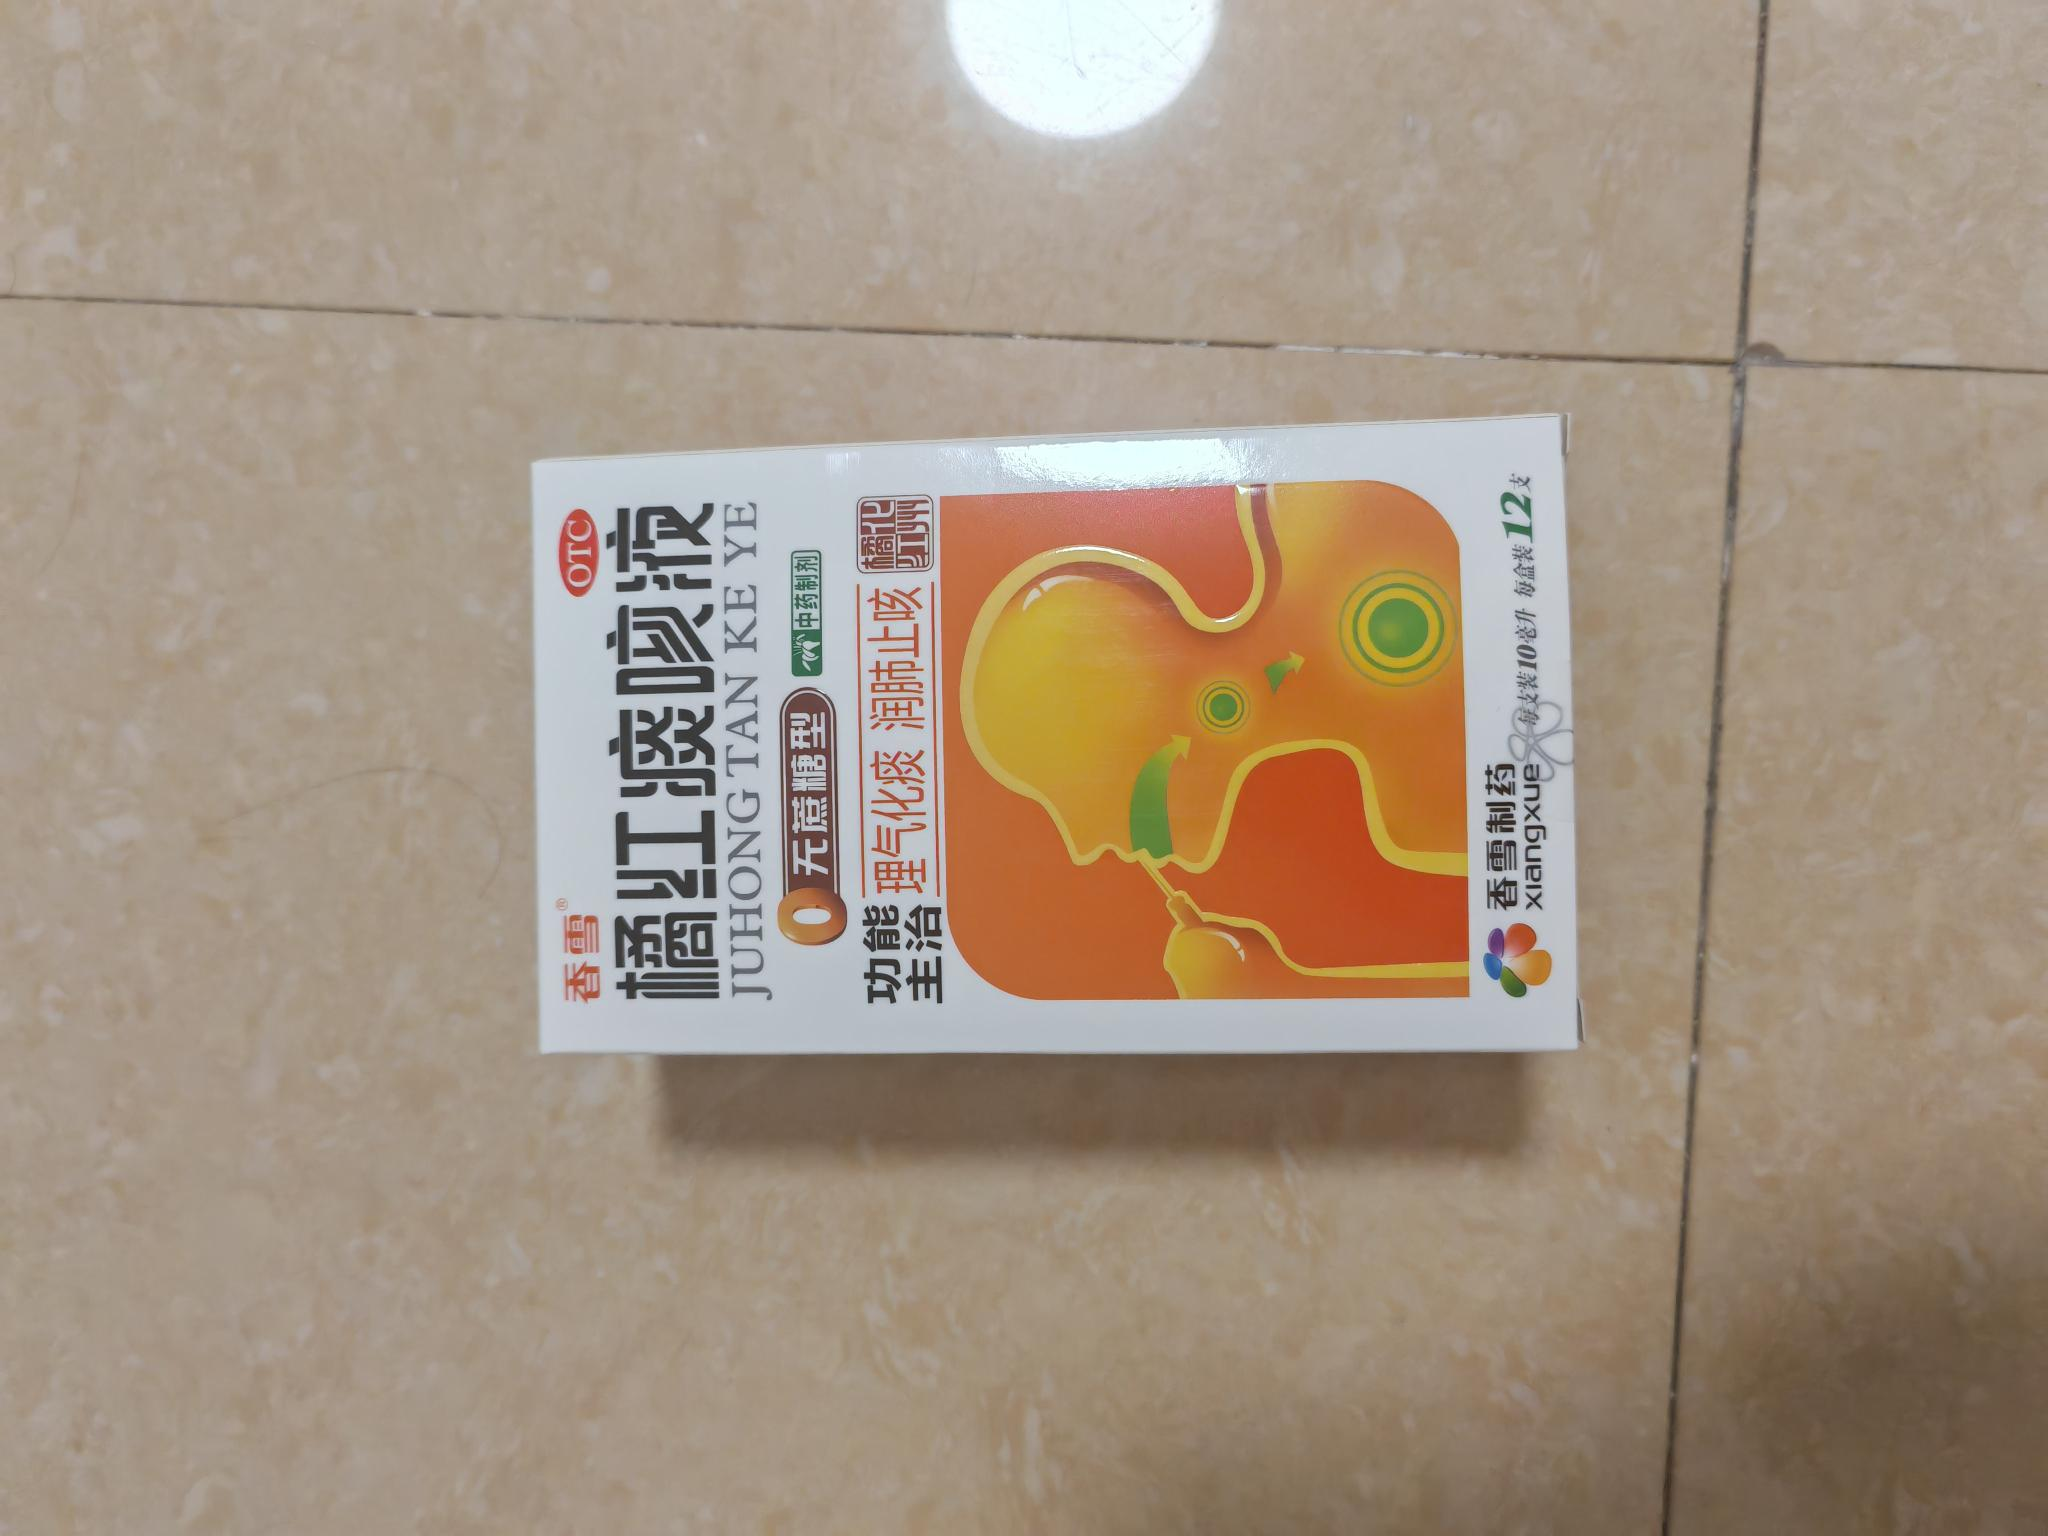Medicine1: (460, 511, 1155, 1536)
